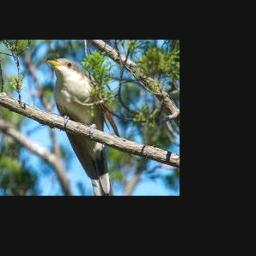Cuckoo: (46, 58, 121, 196)
